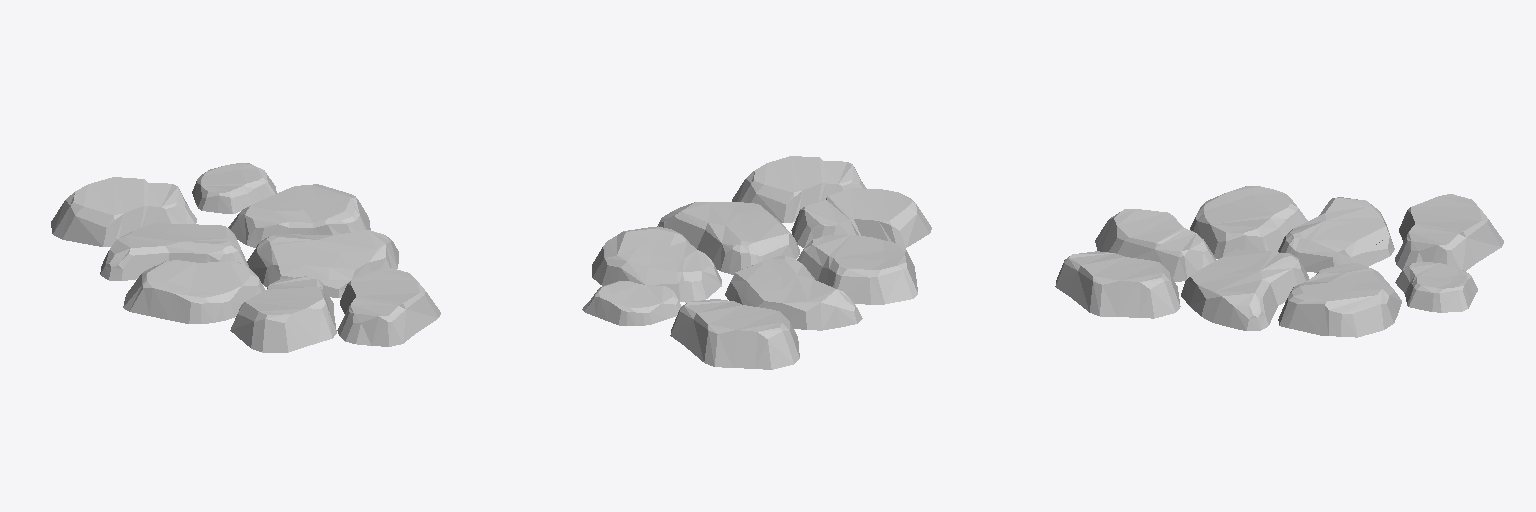
Rendered from RockPath_Round_Small_1.obj.
3 renders of one model, left to right at view 1: azimuth 30°, elevation 25°; view 2: azimuth 150°, elevation 25°; view 3: azimuth 270°, elevation 25°, orthographic.
Parts seen in each view (by area): view 1: RockPath_Round_Small_1; view 2: RockPath_Round_Small_1; view 3: RockPath_Round_Small_1.
Part boxes in pixels (left/top/right/bottom): RockPath_Round_Small_1: left=51, top=163, right=440, bottom=352; RockPath_Round_Small_1: left=582, top=156, right=931, bottom=369; RockPath_Round_Small_1: left=1055, top=186, right=1503, bottom=337.
Size of the model in its own units: 1.06 by 0.1128 by 1.48.